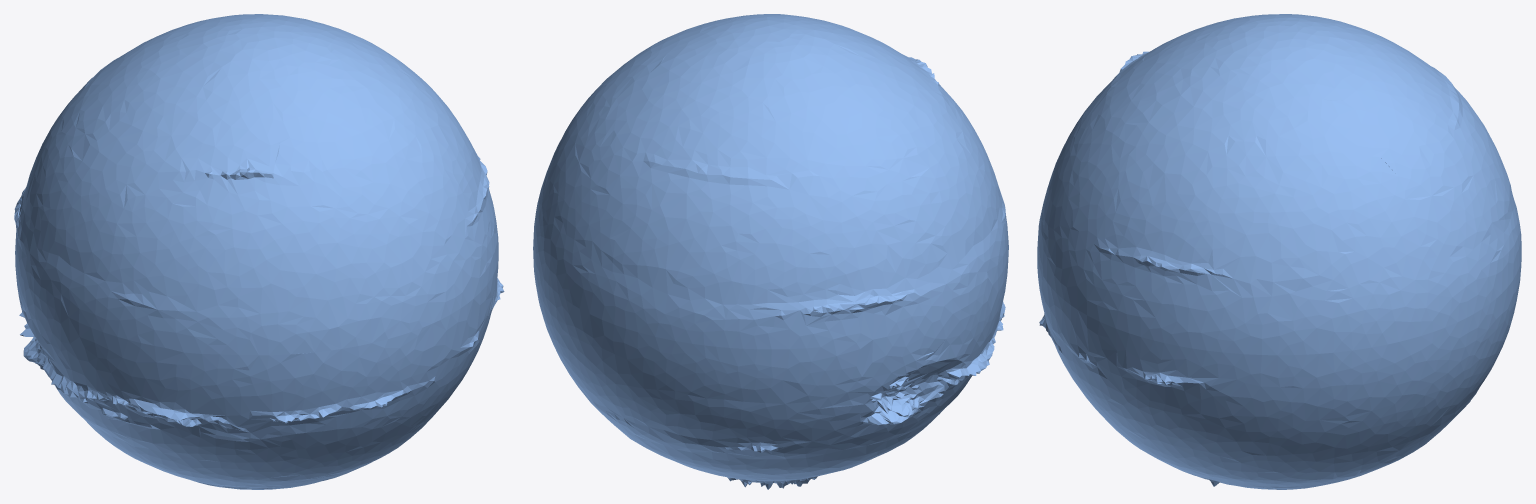
Rendered from neptune.glb.
3 views of the same model, side by side, from view 1: azimuth 30°, elevation 25°; view 2: azimuth 150°, elevation 25°; view 3: azimuth 270°, elevation 25° (orthographic).
Parts seen in each view (by area): view 1: Neptune; view 2: Neptune; view 3: Neptune.
Part boxes in pixels (x1,y1,x2,y2): Neptune: [14, 14, 504, 489]; Neptune: [533, 14, 1008, 489]; Neptune: [1037, 14, 1521, 489].
Bounding box in the file's own units: 0.2795 × 0.2797 × 0.2793.
